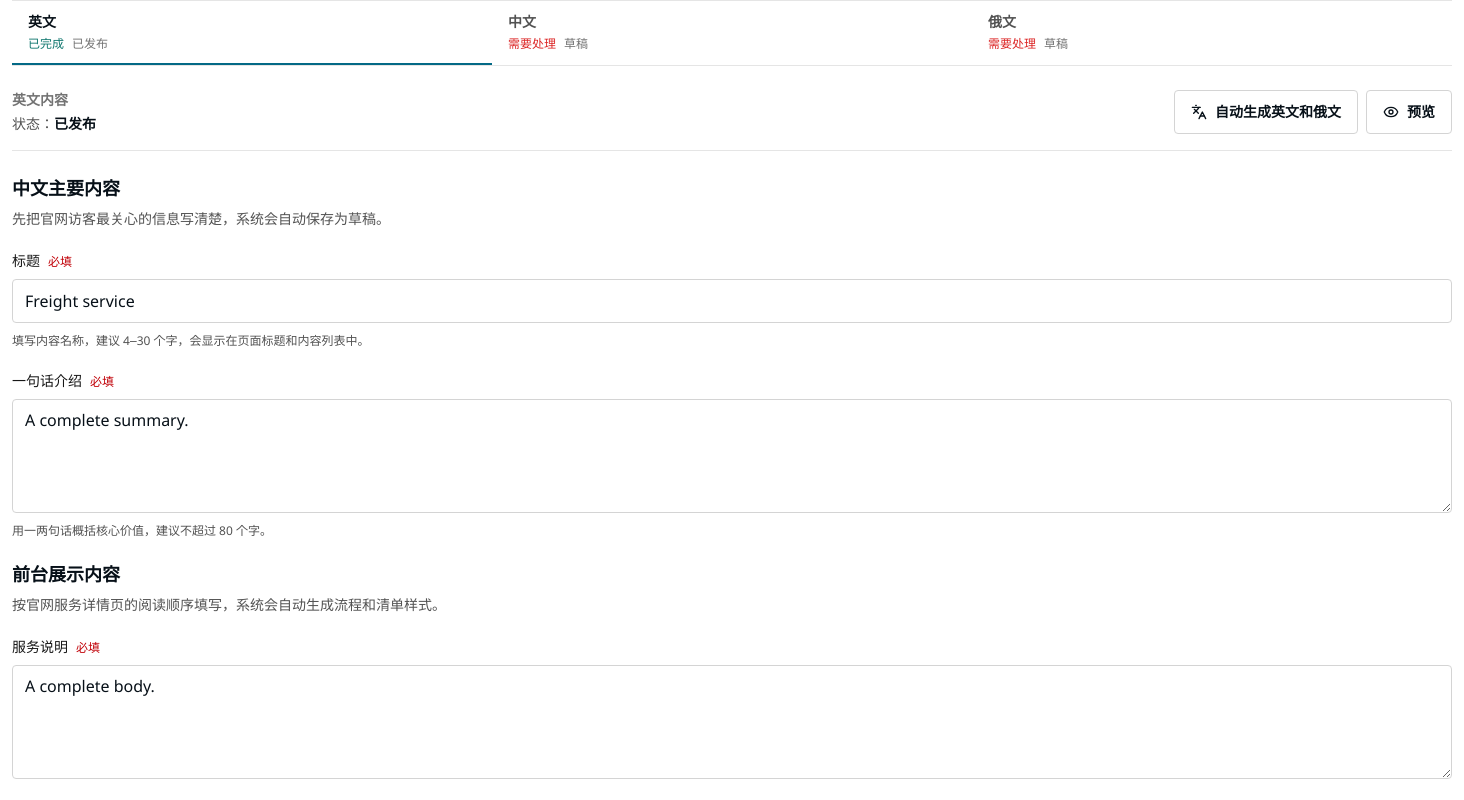
Test case: ContentEditor › labels a dirty persisted publication as an unpublished preview
Replace the text in the field labelled "标题" with "Dirty published title" at (732, 301), box [12,279,1452,323]
(page scrolled)
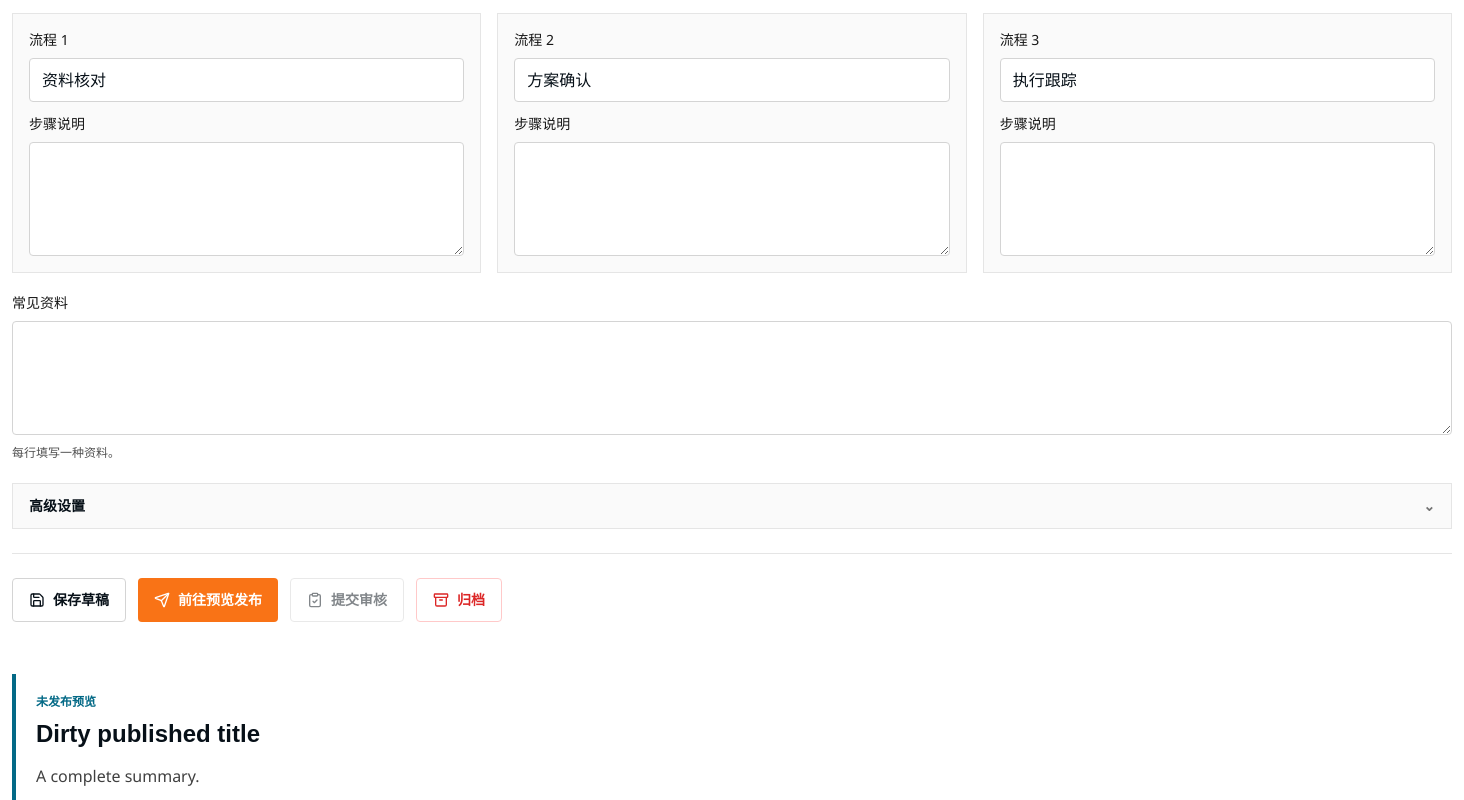
expect the text "未发布预览" is shown: met, box [36,693,96,710]
